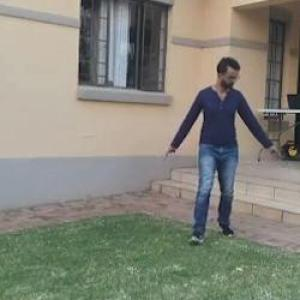land: (166, 60, 278, 246)
